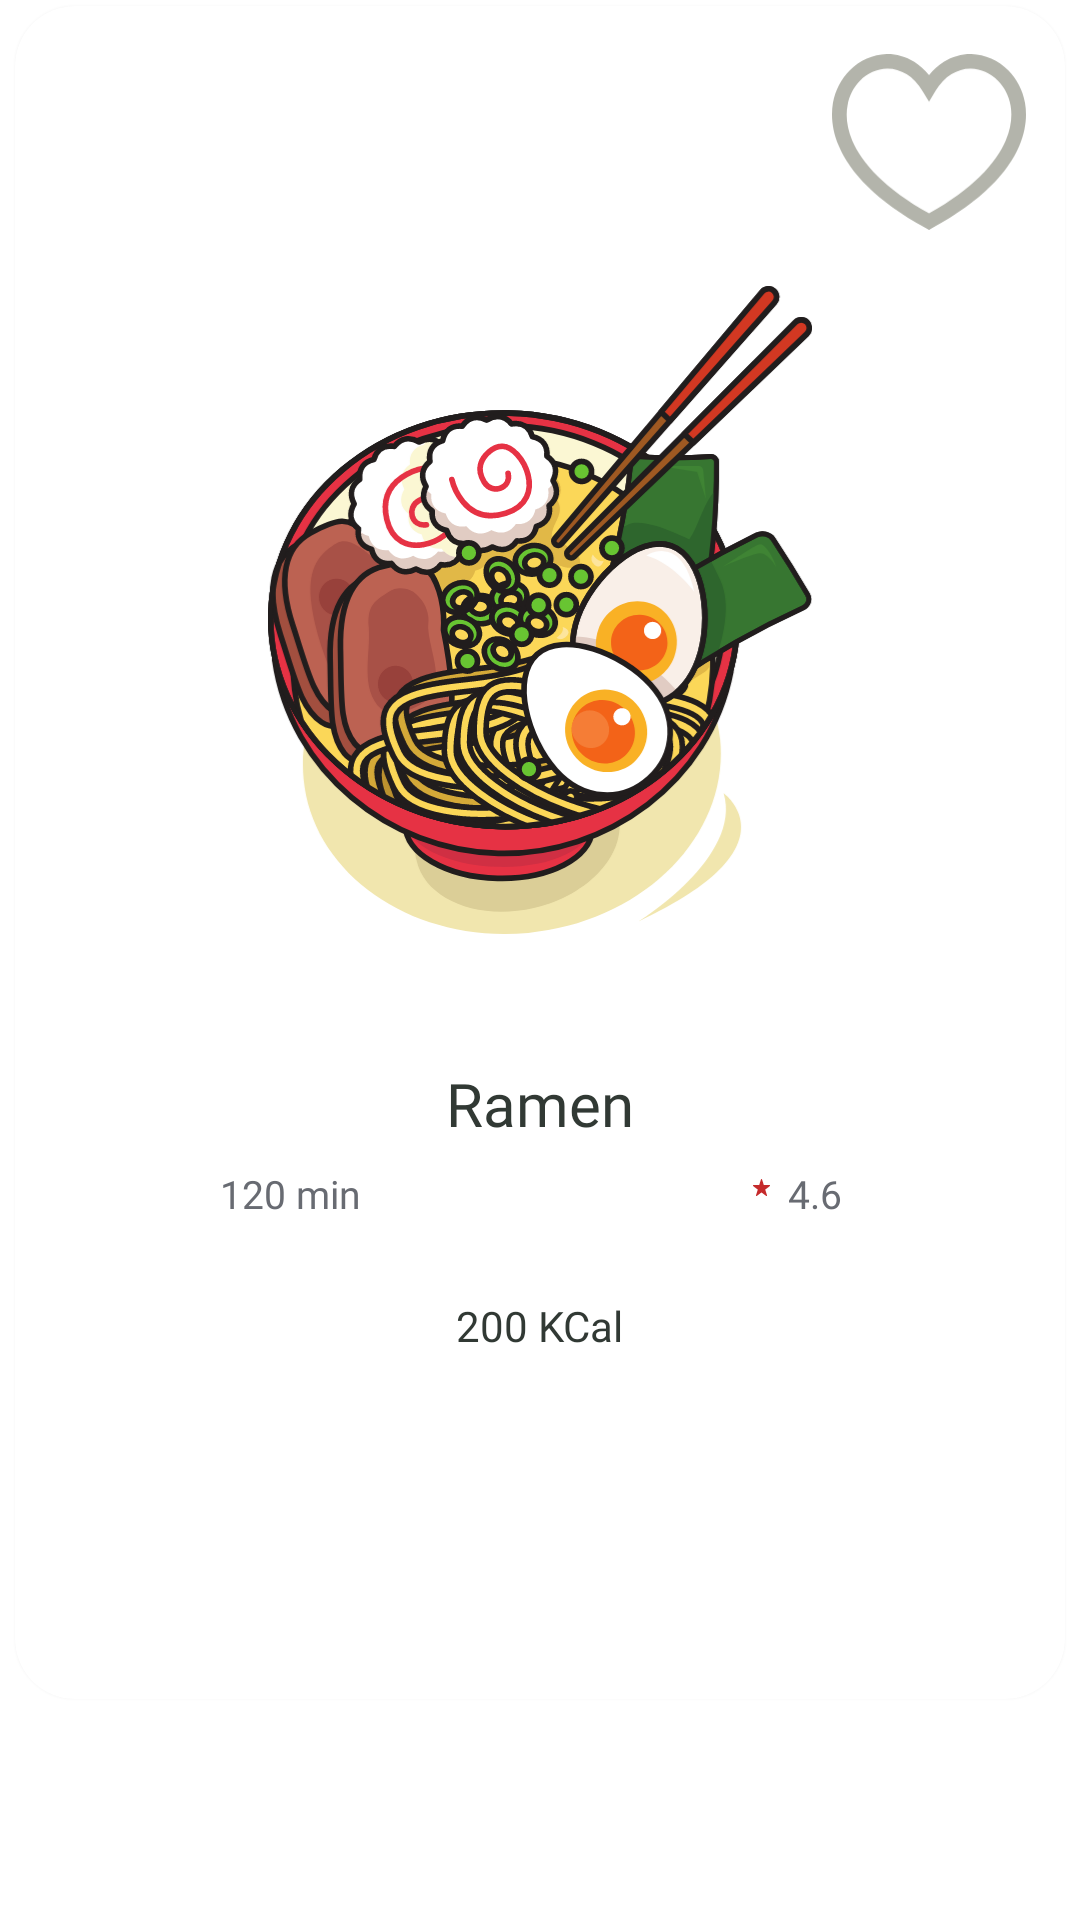

Where icons sit on this 1080 × 1920 app screen, as (x1, y1, x2, y2):
Recipe Favorite Icon: (832, 54, 1026, 230)
